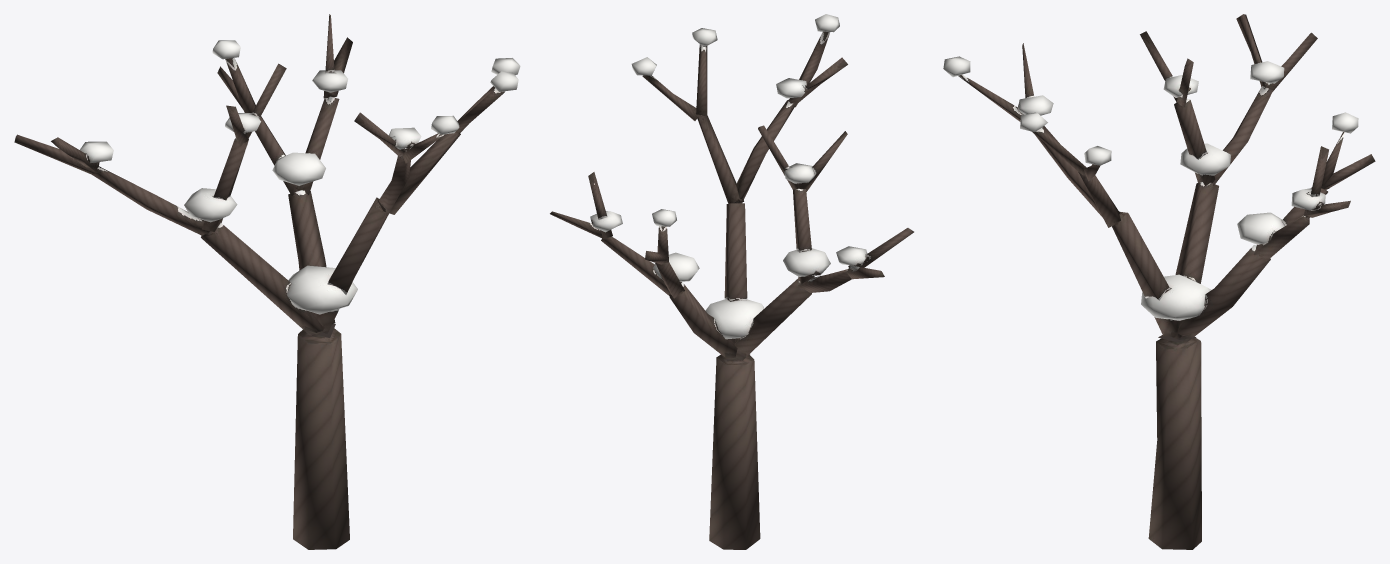
File: tree_bare_zoki.glb
3 renders of one model, left to right at view 1: azimuth 30°, elevation 25°; view 2: azimuth 150°, elevation 25°; view 3: azimuth 270°, elevation 25°, orthographic. The views are drawn at different scales.
Visible parts, largest first — view 1: prop_tree_bare_zoki_felt; view 2: prop_tree_bare_zoki_felt; view 3: prop_tree_bare_zoki_felt.
Part boxes in pixels (left/top/right/bottom): prop_tree_bare_zoki_felt: left=14, top=14, right=520, bottom=549; prop_tree_bare_zoki_felt: left=550, top=14, right=913, bottom=549; prop_tree_bare_zoki_felt: left=943, top=14, right=1375, bottom=549.
Bounding box in the file's own units: 6.56 × 8.07 × 6.47.
1 material, 1 textured.
